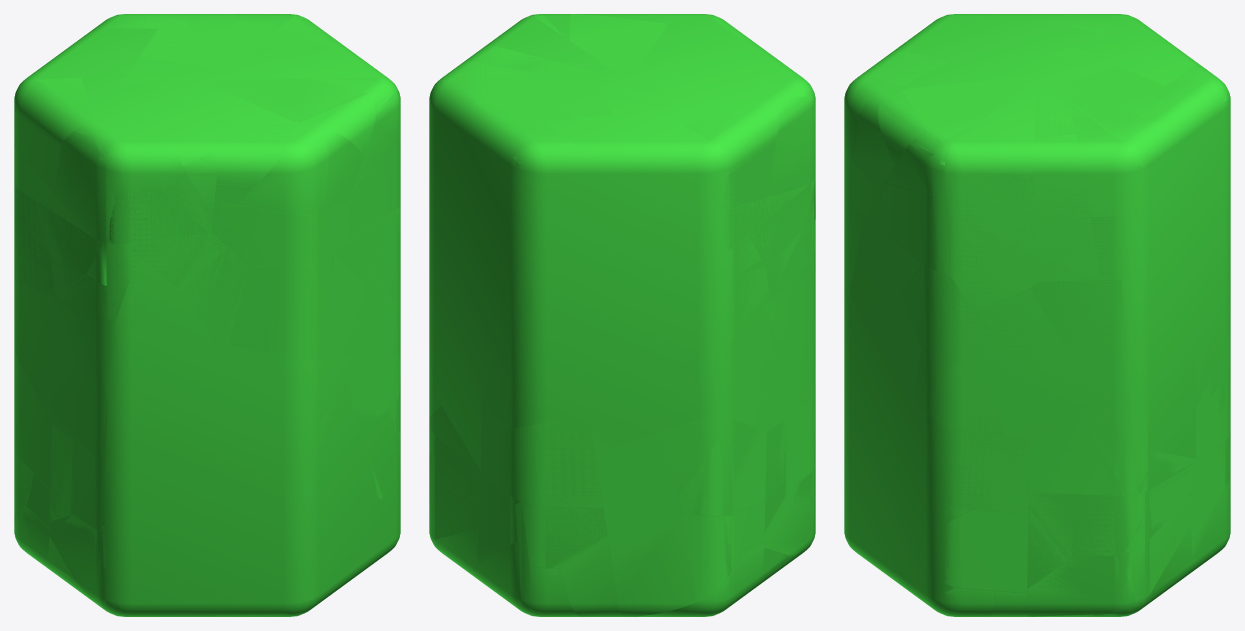
Rendered from Altıgen_parcali.fbx.
3 renders of one model, left to right at view 1: azimuth 30°, elevation 25°; view 2: azimuth 150°, elevation 25°; view 3: azimuth 270°, elevation 25°, orthographic.
Parts seen in each view (by area): view 1: Altıgen, Altıgen_cell.001_cell.002_cell.003, Altıgen_cell.001_cell_cell.004_cell.002, Altıgen_cell.002_cell.001_cell, Altıgen_cell.001_cell.002_cell.001_cell.003, Altıgen_cell.003_cell.001_cell.001_cell.002, Altıgen_cell.001_cell.002_cell.001_cell, Altıgen_cell.002_cell.001_cell.004, Altıgen_cell.001_cell.003_cell.002, Altıgen_cell.001_cell.004_cell.001, Altıgen_cell.003_cell.001_cell.001_cell.004, Altıgen_cell.002_cell.004_cell.001 (+45 smaller); view 2: Altıgen, Altıgen_cell.002_cell.004_cell.002_cell.001, Altıgen_cell.004_cell.003_cell, Altıgen_cell.002_cell.004_cell.003, Altıgen_cell.002_cell.004_cell.001, Altıgen_cell.002_cell.001_cell.004, Altıgen_cell.001_cell.002_cell.001_cell, Altıgen_cell.002_cell.001_cell, Altıgen_cell.003_cell.001_cell.001_cell.002, Altıgen_cell.004_cell_cell.001_cell.001, Altıgen_cell.004_cell_cell.001_cell, Altıgen_cell.003_cell.001_cell.001_cell.004 (+34 smaller); view 3: Altıgen, Altıgen_cell_cell.003_cell.002_cell.001, Altıgen_cell.001_cell_cell.001_cell.001, Altıgen_cell_cell.003_cell.002_cell.002, Altıgen_cell.001_cell.001_cell.004_cell, Altıgen_cell.004_cell.004_cell.003, Altıgen_cell.001_cell.002_cell.001_cell, Altıgen_cell.001_cell_cell.001_cell.004, Altıgen_cell.001_cell_cell.001_cell.003, Altıgen_cell.001_cell.002_cell_cell.003, Altıgen_cell.004_cell.004_cell.004, Altıgen_cell.001_cell.001_cell.002_cell (+45 smaller).
Part boxes in pixels (x1,y1,x2,y2): Altıgen: (14,14,400,616); Altıgen_cell.001_cell.002_cell.003: (211,201,349,267); Altıgen_cell.001_cell_cell.004_cell.002: (271,252,334,360); Altıgen_cell.002_cell.001_cell: (39,362,108,461); Altıgen_cell.001_cell.002_cell.001_cell.003: (240,135,328,214); Altıgen_cell.003_cell.001_cell.001_cell.002: (54,124,106,243); Altıgen_cell.001_cell.002_cell.001_cell: (216,78,367,122); Altıgen_cell.002_cell.001_cell.004: (14,280,54,399); Altıgen_cell.001_cell.003_cell.002: (107,193,210,244); Altıgen_cell.001_cell.004_cell.001: (183,248,247,344); Altıgen_cell.003_cell.001_cell.001_cell.004: (14,77,92,145); Altıgen_cell.002_cell.004_cell.001: (14,352,51,490); Altıgen: (429,14,815,616); Altıgen_cell.002_cell.004_cell.002_cell.001: (610,508,748,616); Altıgen_cell.004_cell.003_cell: (498,412,602,508); Altıgen_cell.002_cell.004_cell.003: (595,434,682,551); Altıgen_cell.002_cell.004_cell.001: (678,417,766,516); Altıgen_cell.002_cell.001_cell.004: (695,305,769,426); Altıgen_cell.001_cell.002_cell.001_cell: (569,14,666,74); Altıgen_cell.002_cell.001_cell: (754,325,815,431); Altıgen_cell.003_cell.001_cell.001_cell.002: (769,96,815,196); Altıgen_cell.004_cell_cell.001_cell.001: (515,502,606,567); Altıgen_cell.004_cell_cell.001_cell: (559,536,620,616); Altıgen_cell.003_cell.001_cell.001_cell.004: (683,100,778,173); Altıgen: (844,14,1230,616); Altıgen_cell_cell.003_cell.002_cell.001: (945,510,1028,592); Altıgen_cell.001_cell_cell.001_cell.001: (901,264,1003,366); Altıgen_cell_cell.003_cell.002_cell.002: (948,429,1029,513); Altıgen_cell.001_cell.001_cell.004_cell: (1029,279,1128,357); Altıgen_cell.004_cell.004_cell.003: (1029,417,1126,495); Altıgen_cell.001_cell.002_cell.001_cell: (902,77,1030,131); Altıgen_cell.001_cell_cell.001_cell.004: (918,353,1004,435); Altıgen_cell.001_cell_cell.001_cell.003: (982,341,1058,436); Altıgen_cell.001_cell.002_cell_cell.003: (879,183,935,270); Altıgen_cell.004_cell.004_cell.004: (1079,391,1136,495); Altıgen_cell.001_cell.001_cell.002_cell: (978,288,1058,368).
Size of the model in its own units: 1.73 by 2.61 by 1.93.
